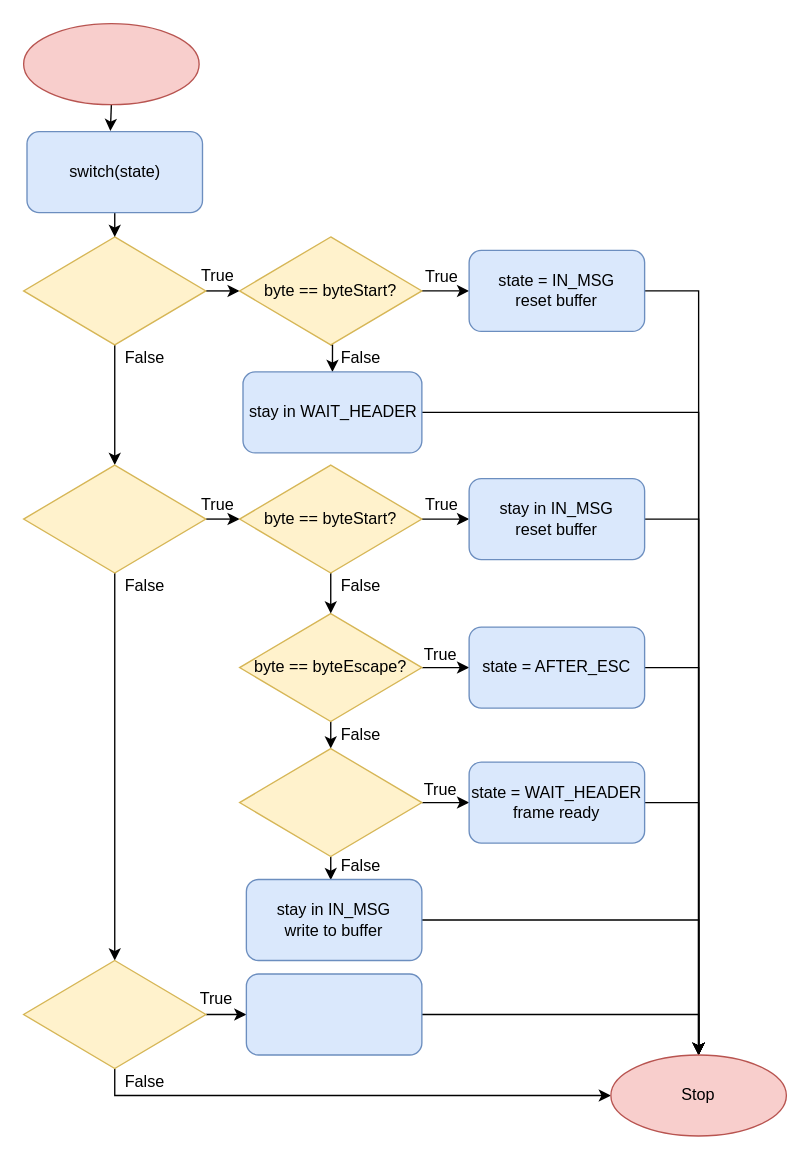
Image size: 810x1160. Some labels were removed from this diagram. The centre of each missing label's shape, as x and y in pixels:
"byte == byteEnd?" belongs at [330,802].
"case AFTER_ESC" belongs at [114,1014].
"case IN_MSG" belongs at [114,518].
"case WAIT_HEADER" belongs at [114,290].
"Start" belongs at [110,63].
"state = IN_MSG write to buffer" belongs at [333,1014].
